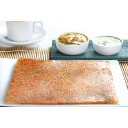dosa: (5, 56, 121, 104)
